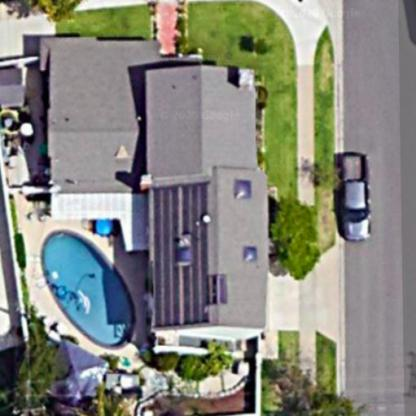car: (329, 145, 380, 247)
solar_panel: (148, 176, 227, 336)
swimming_pool: (32, 215, 141, 357)
